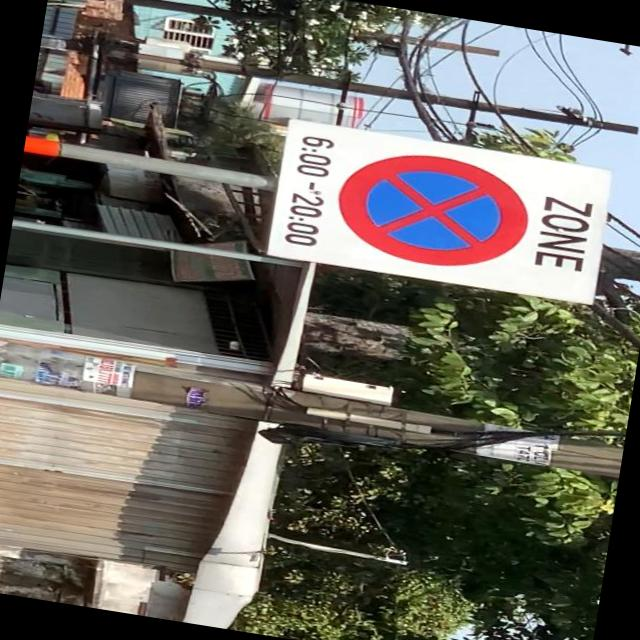P-130: (328, 142, 537, 280)
